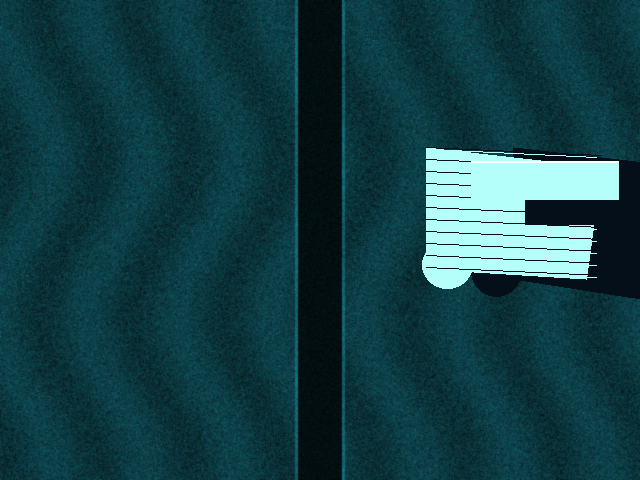Fishing Gear: (426, 147, 601, 279)
Metal Debris: (471, 161, 618, 199)
Plastic Debris: (422, 241, 472, 288)
